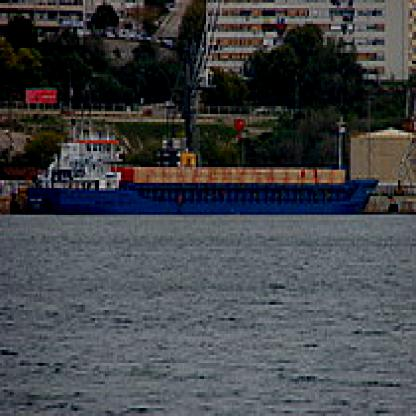Tanker: (22, 114, 390, 223)
